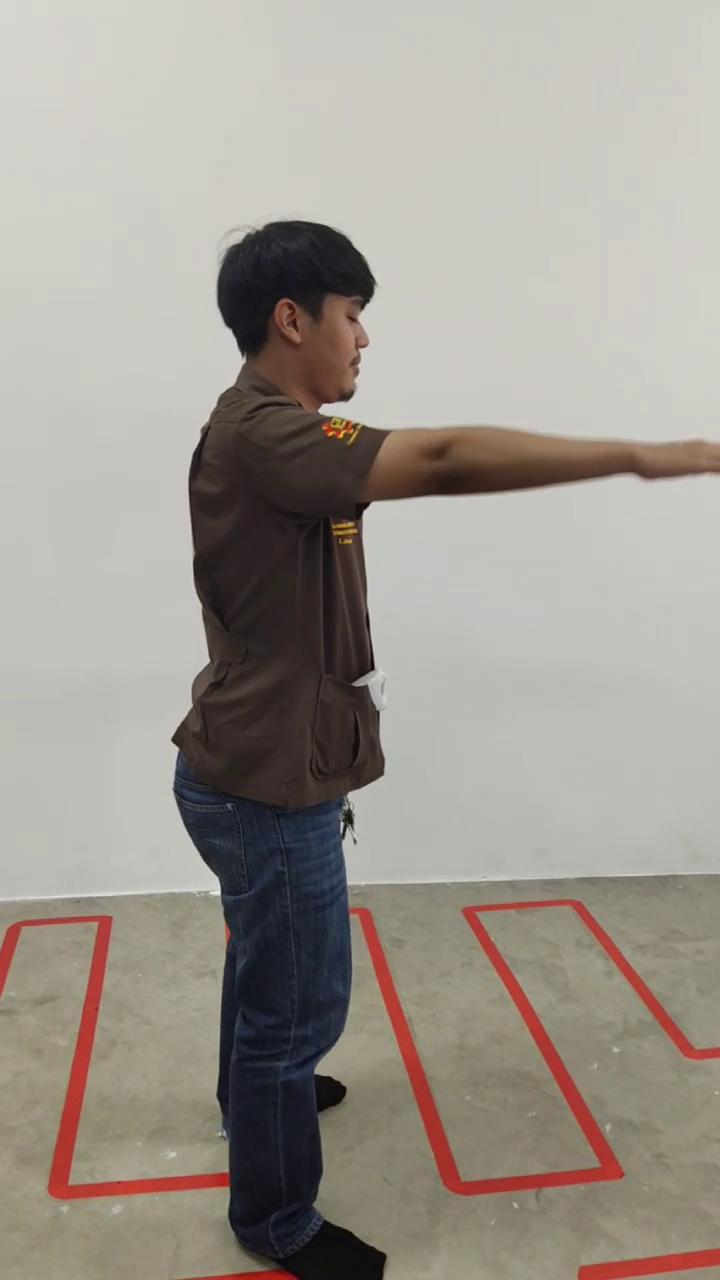squat up: (172, 220, 718, 1280)
